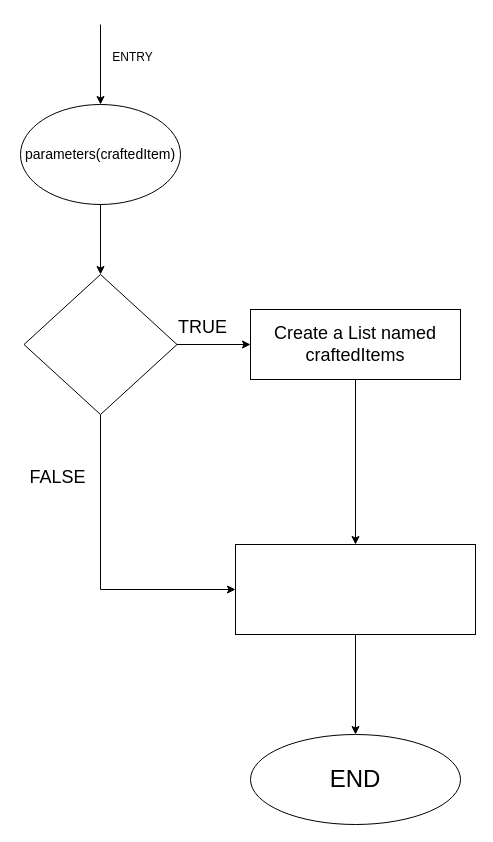
Image size: 493x842. Some labels were removed from this diagram. The shapes that lost their labels are listed below. From the top down, each one's centre as x and y in pixels, then its label:
the point at 100,344: craftedItems == null
the point at 355,589: Add craftedItem to craftedItems
